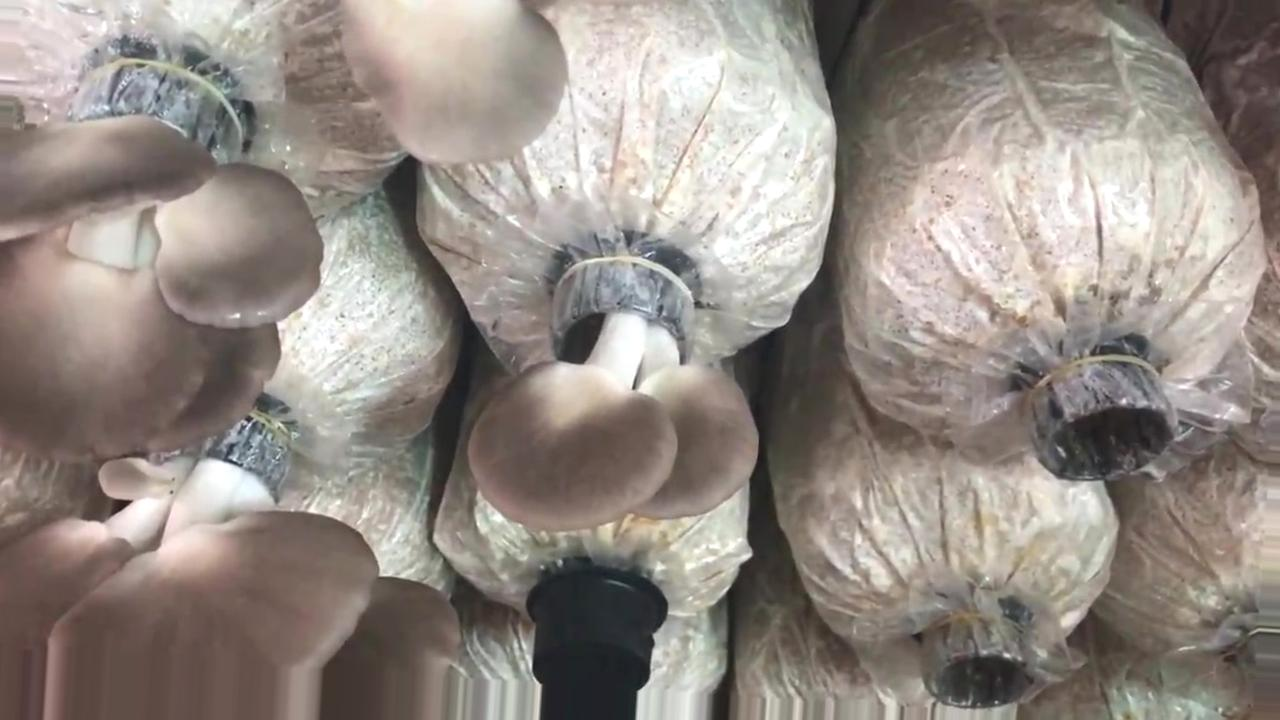nam: (1, 392, 463, 714), (1, 52, 320, 457), (468, 246, 757, 532), (342, 2, 567, 163)
